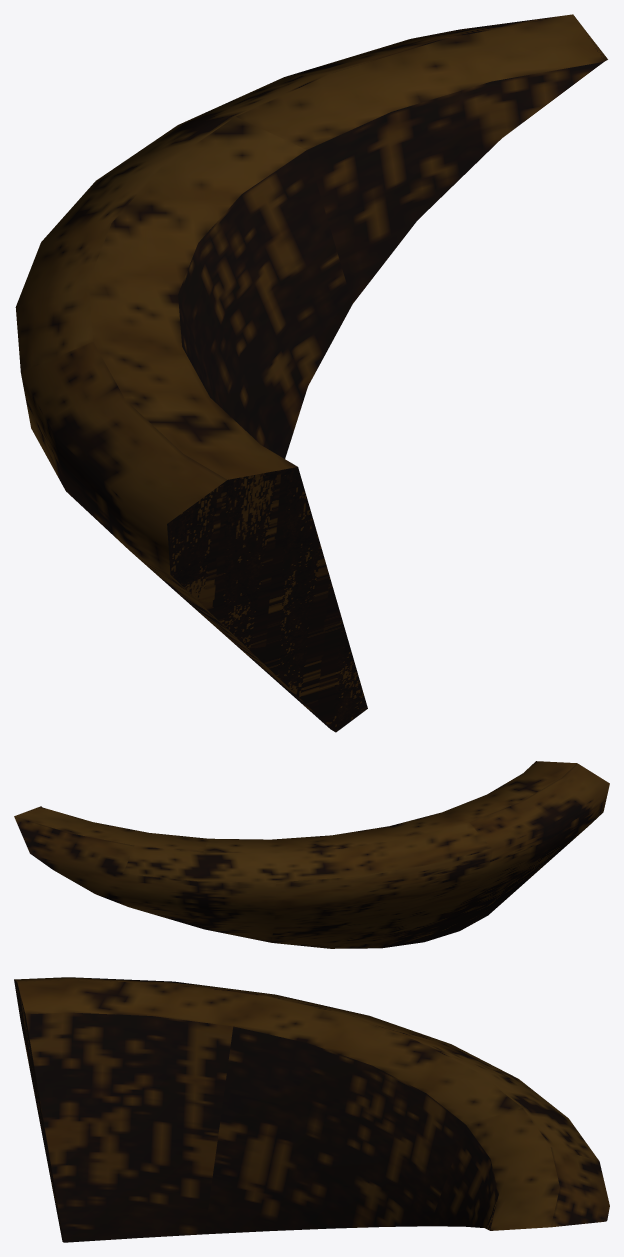
File: PoteryPiece7.fbx
The picture shows the model from 3 angles, top to bottom: view 1: azimuth 30°, elevation 25°; view 2: azimuth 150°, elevation 25°; view 3: azimuth 270°, elevation 25°; orthographic projection. The views are drawn at different scales.
Parts seen in each view (by area): view 1: Cylinder_cell.006; view 2: Cylinder_cell.006; view 3: Cylinder_cell.006.
Boxes of the visible parts, left/top/right/bottom form: Cylinder_cell.006: left=15, top=14, right=607, bottom=732; Cylinder_cell.006: left=14, top=761, right=609, bottom=948; Cylinder_cell.006: left=14, top=977, right=609, bottom=1242.
Bounding box in the file's own units: 126 × 46.52 × 118.
